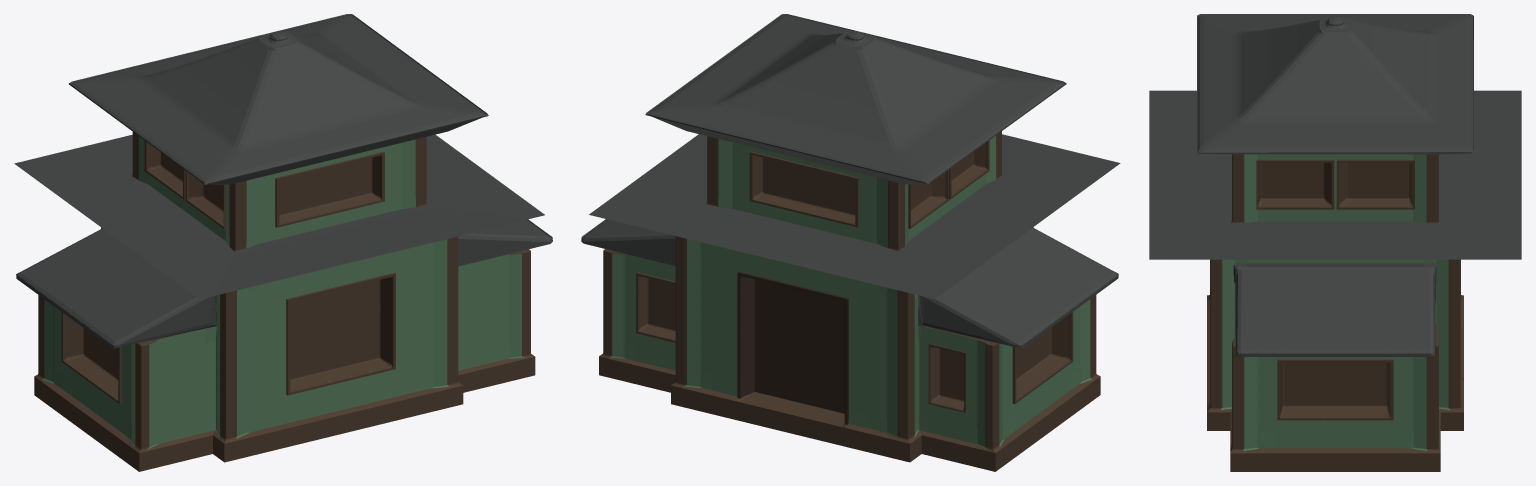
3 renders of one model, left to right at view 1: azimuth 30°, elevation 25°; view 2: azimuth 150°, elevation 25°; view 3: azimuth 270°, elevation 25°, orthographic.
Parts seen in each view (by area): view 1: ev4.001; view 2: ev4.001; view 3: ev4.001.
Boxes of the visible parts, box(x1,y1,x2,y2) form: ev4.001: box(14, 14, 552, 471); ev4.001: box(581, 14, 1120, 471); ev4.001: box(1149, 14, 1521, 471).
Size of the model in its own units: 168 by 128 by 122.
